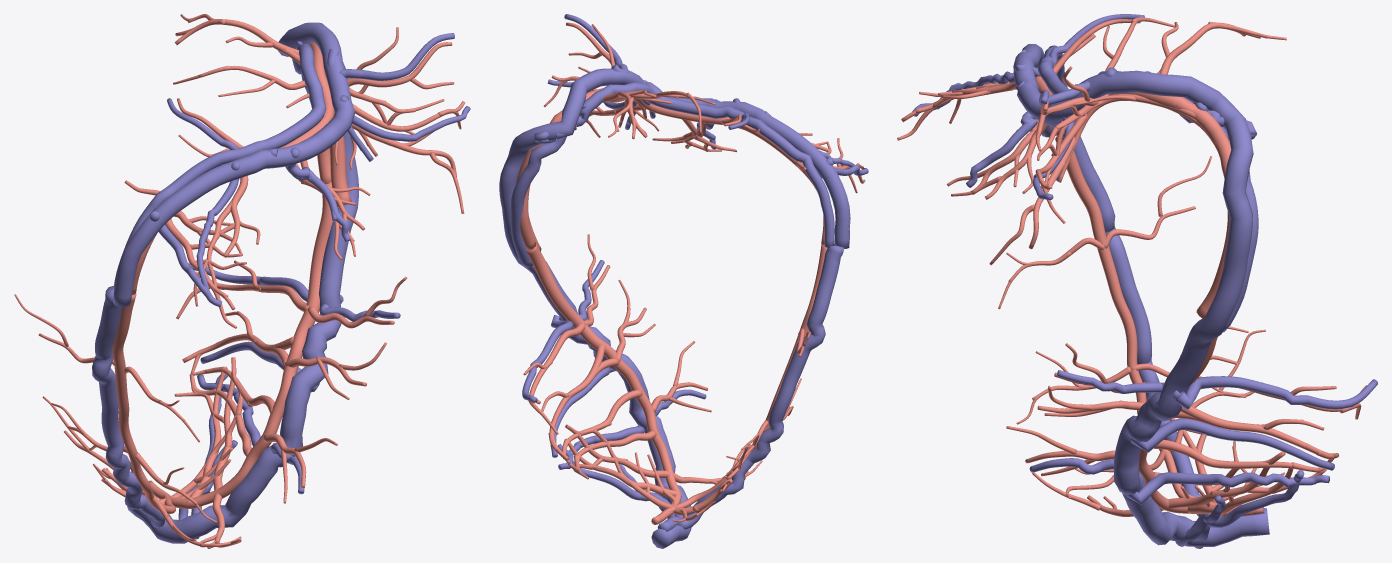
File: vessels_7.glb
3 renders of one model, left to right at view 1: azimuth 30°, elevation 25°; view 2: azimuth 150°, elevation 25°; view 3: azimuth 270°, elevation 25°, orthographic. The views are drawn at different scales.
Visible parts, largest first — view 1: Renderer Node; view 2: Renderer Node; view 3: Renderer Node.
Part boxes in pixels (x1,y1,x2,y2): Renderer Node: [14, 14, 470, 548]; Renderer Node: [499, 14, 868, 548]; Renderer Node: [897, 14, 1377, 548].
Bounding box in the file's own units: 95.57 × 124 × 95.47.
